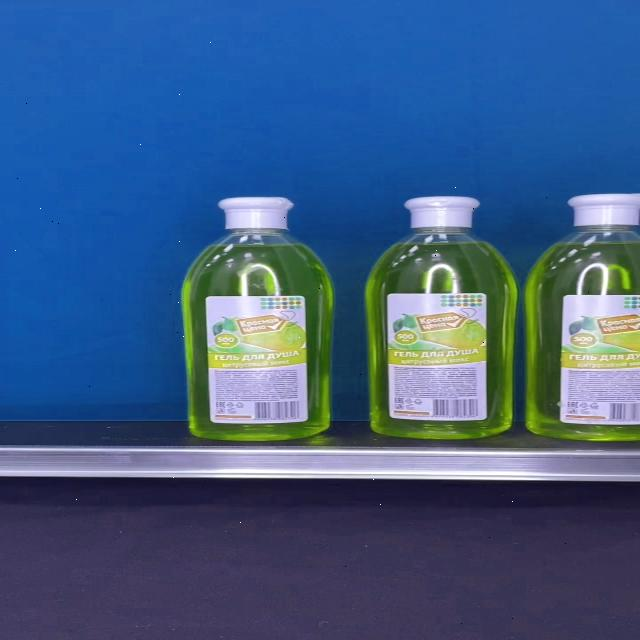Bottle: (366, 196, 517, 438), (182, 196, 331, 441)
Cap: (217, 196, 293, 230), (403, 197, 481, 230)
